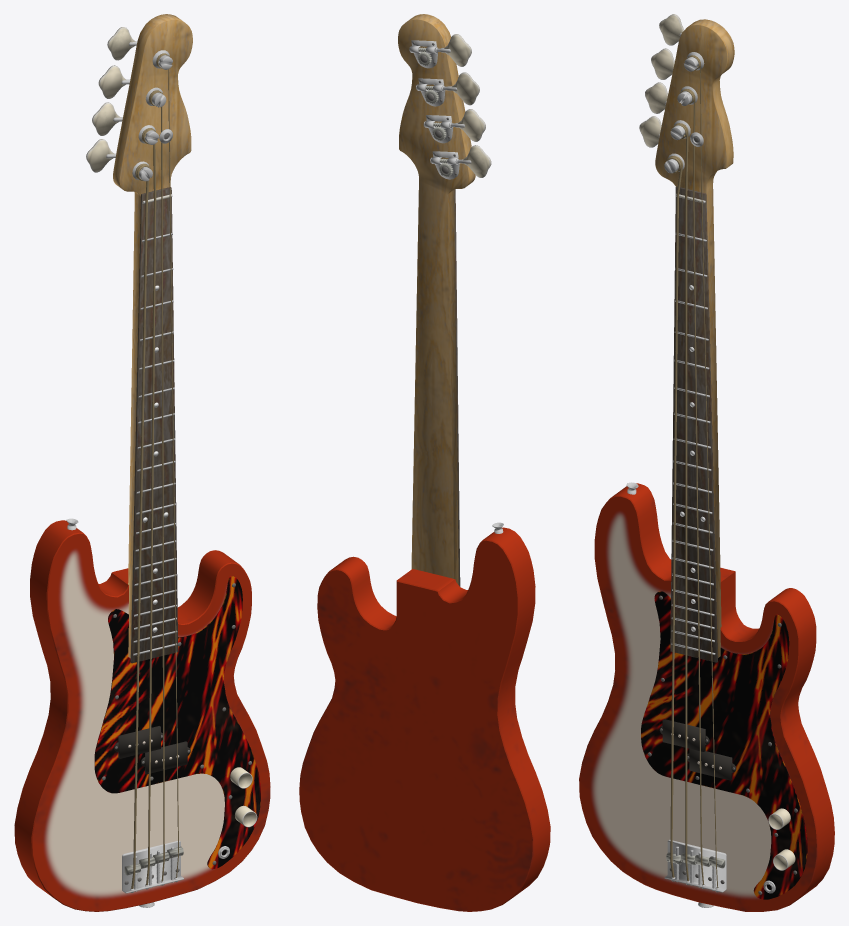
File: bass-2.glb
3 renders of one model, left to right at view 1: azimuth 30°, elevation 25°; view 2: azimuth 150°, elevation 25°; view 3: azimuth 330°, elevation 25°, orthographic.
Parts seen in each view (by area): view 1: deka_loy, other_loy, deka_nakladka_loy; view 2: deka_loy, other_loy; view 3: deka_loy, other_loy, deka_nakladka_loy.
Part boxes in pixels (x1,y1,x2,y2): deka_loy: (14, 520, 270, 911); other_loy: (66, 14, 257, 907); deka_nakladka_loy: (94, 576, 260, 869); deka_loy: (299, 527, 550, 911); other_loy: (398, 14, 503, 586); deka_loy: (579, 483, 834, 911); other_loy: (626, 14, 795, 907); deka_nakladka_loy: (641, 591, 807, 899).
Bounding box in the file's own units: 0.903 × 3.22 × 0.1964.
2 materials, 2 textured.
